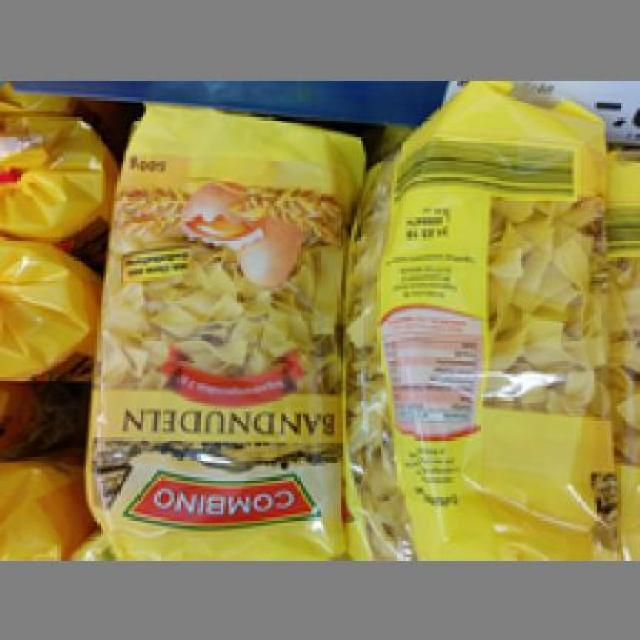Pasta: (349, 77, 620, 554), (83, 97, 360, 557)
